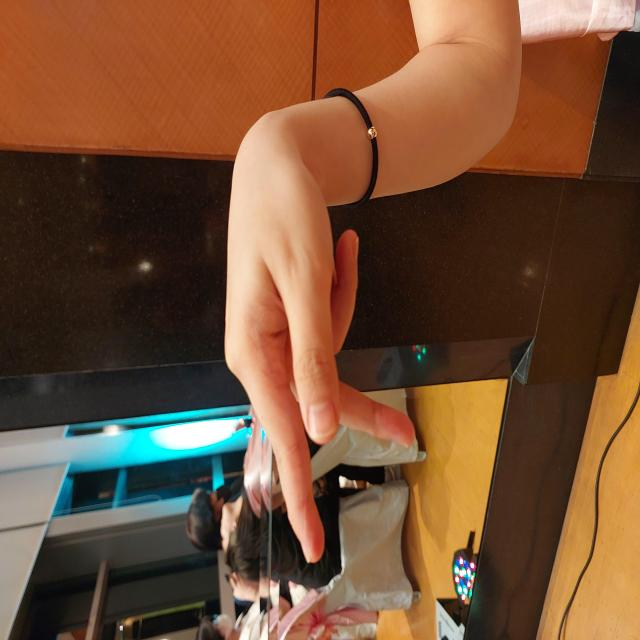P: (75, 220, 485, 420)
